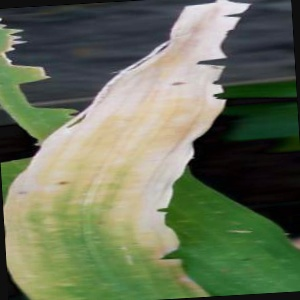Leaf_Blast: (4, 103, 170, 300)
